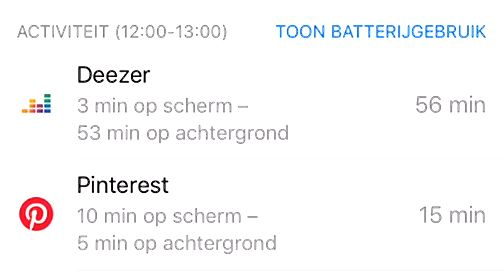activity: (14, 16, 236, 52)
app: (14, 167, 502, 262), (10, 61, 501, 142)
